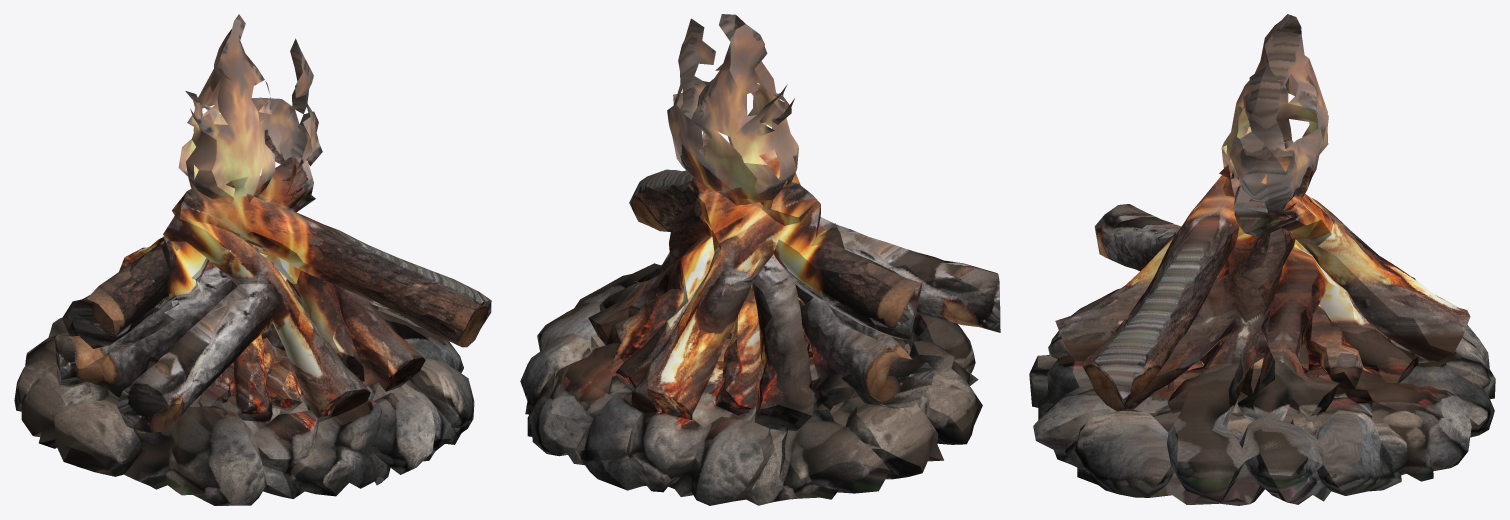
Rendered from campfire.glb.
3 views of the same model, side by side, from view 1: azimuth 30°, elevation 25°; view 2: azimuth 150°, elevation 25°; view 3: azimuth 270°, elevation 25° (orthographic). The views are drawn at different scales.
Visible parts, largest first — view 1: geometry_0; view 2: geometry_0; view 3: geometry_0.
Part boxes in pixels (<box>): geometry_0: <box>14,14,491,505</box>; geometry_0: <box>520,14,1000,505</box>; geometry_0: <box>1029,14,1495,505</box>.
Size of the model in its own units: 0.6243 by 0.6 by 0.6224.
Materials: 1 (1 with a texture image).
